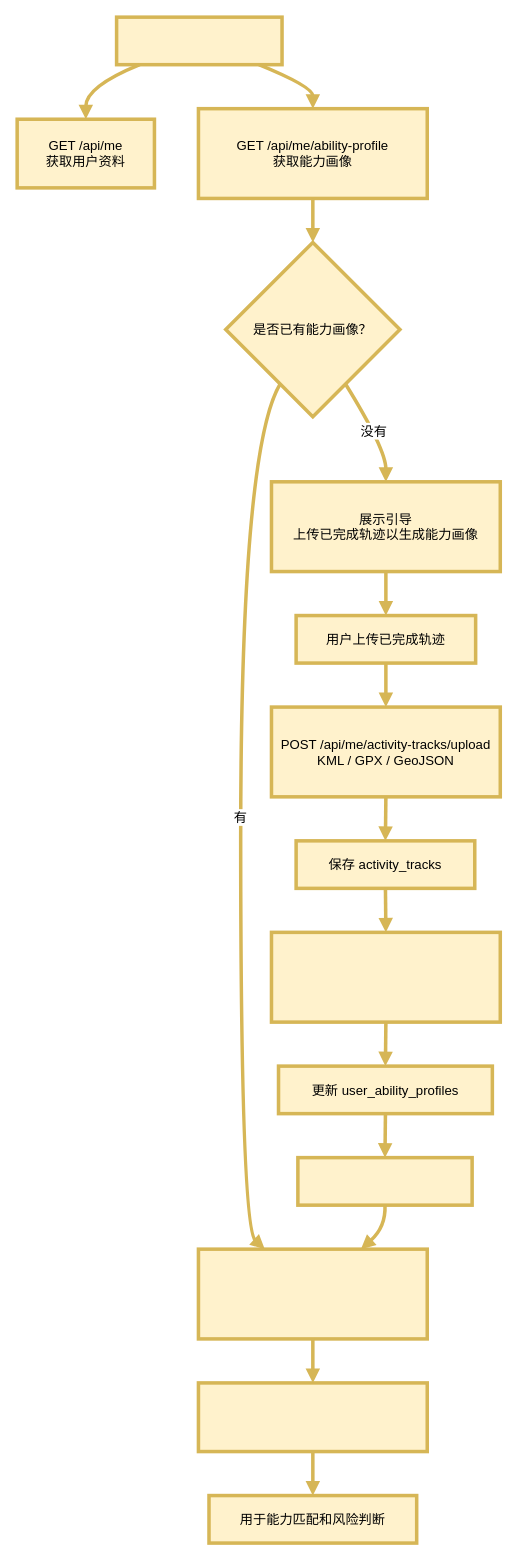
This 517x1559 diagram has some shape labels left out. Each missing label, with the centre of its shape:
"US-01 AgentRun 读取 user_ability_profile" belongs at pixel 312 1417.
"展示能力画像 耐力 / 爬坡 / 最大距离 / 最大爬升 / 可信度" belongs at pixel 312 1293.
"用户进入个人中心" belongs at pixel 198 40.
"解析轨迹指标 距离 / 爬升 / 海拔 / track_geojson" belongs at pixel 385 976.
"返回 ability_profile" belongs at pixel 384 1180.
